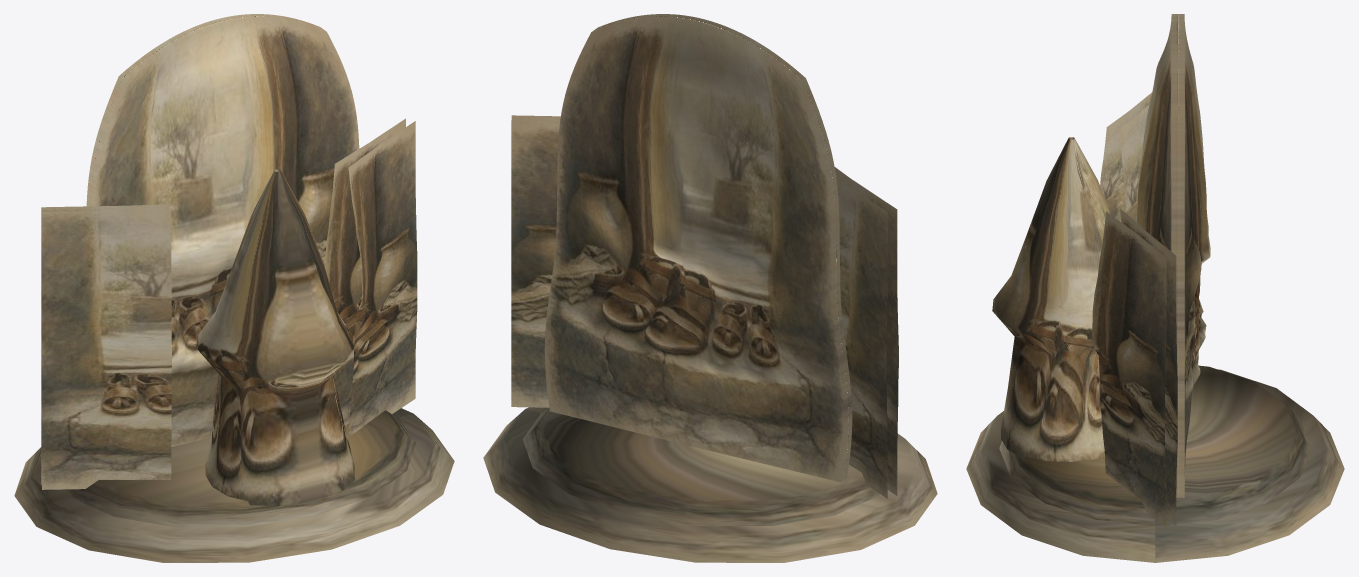
File: nothing-can-separate-19.glb
The picture shows the model from 3 angles, left to right: view 1: azimuth 30°, elevation 25°; view 2: azimuth 150°, elevation 25°; view 3: azimuth 270°, elevation 25°; orthographic projection. The views are drawn at different scales.
Parts seen in each view (by area): view 1: PaintingSculptureMonument; view 2: PaintingSculptureMonument; view 3: PaintingSculptureMonument.
Boxes of the visible parts, x1,y1,x2,y2 form: PaintingSculptureMonument: (14,14,454,562); PaintingSculptureMonument: (483,14,937,562); PaintingSculptureMonument: (966,14,1344,562).
Size of the model in its own units: 2.76 by 2.99 by 2.35.
1 material, 1 textured.
